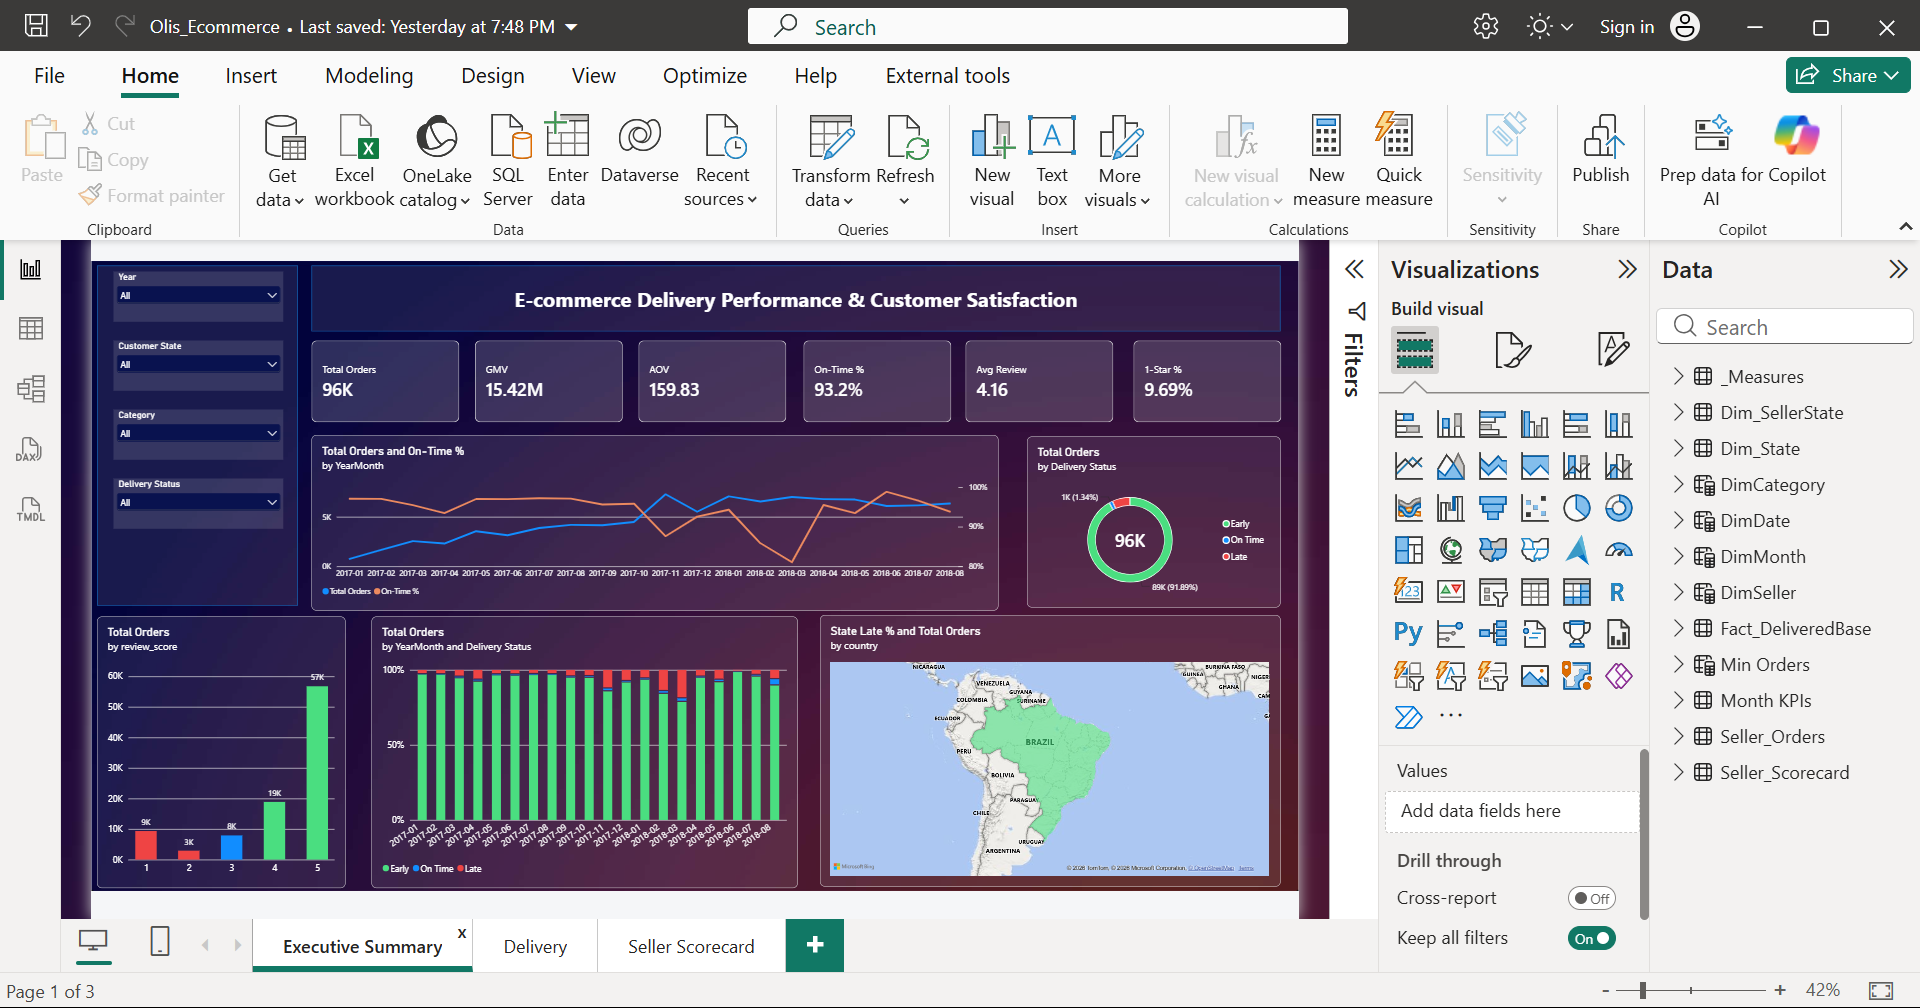

The dashboard page shown, as its layout file describes it:
{"tool":"powerbi","page":{"name":"Executive Summary","canvas":[1920,1080],"ordinal":0},"visuals":[{"type":"shape","box":[9.5,40.6,319.7,541.6],"z":0},{"type":"slicer","fields":{"Values":["DimDate.Year"]},"box":[35,50,270,80],"z":1000},{"type":"slicer","fields":{"Values":["Dim_State.state_name"]},"box":[35.8,160,270,80],"z":2000},{"type":"slicer","fields":{"Values":["DimCategory.category"]},"box":[35,270,270,80],"z":3000},{"type":"slicer","fields":{"Values":["Fact_DeliveredBase.Delivery Status"]},"box":[35,380,270,80],"z":4000},{"type":"cardVisual","fields":{"Data":["_Measures.GMV"]},"box":[610.8,159.9,235,130],"z":5000},{"type":"cardVisual","fields":{"Data":["Fact_DeliveredBase.Total Orders"]},"box":[350.7,159.9,235,130],"z":6000},{"type":"cardVisual","fields":{"Data":["_Measures.Avg Review"]},"box":[1391,159.9,235,130],"z":7000},{"type":"cardVisual","fields":{"Data":["_Measures.On-Time %"]},"box":[1133.3,159.9,235,130],"z":8000},{"type":"cardVisual","fields":{"Data":["_Measures.1-Star %"]},"box":[1658.2,159.9,235,130],"z":9000},{"type":"cardVisual","fields":{"Data":["_Measures.AOV"]},"box":[870.9,159.9,235,130],"z":10000},{"type":"lineChart","fields":{"Category":["DimDate.YearMonth"],"Y":["Fact_DeliveredBase.Total Orders"],"Y2":["_Measures.On-Time %"]},"box":[350.7,310.2,1092.7,279.2],"z":11000},{"type":"donutChart","fields":{"Category":["Fact_DeliveredBase.Delivery Status"],"Y":["Fact_DeliveredBase.Total Orders"]},"box":[1488.8,312.6,403.2,272],"z":12000},{"type":"clusteredColumnChart","fields":{"Category":["Fact_DeliveredBase.review_score"],"Y":["Fact_DeliveredBase.Total Orders"]},"box":[9.5,598.9,395,432],"z":13000},{"type":"hundredPercentStackedColumnChart","fields":{"Category":["DimDate.YearMonth"],"Series":["Fact_DeliveredBase.Delivery Status"],"Y":["Fact_DeliveredBase.Total Orders"]},"box":[446.2,598.9,678,432],"z":14000},{"type":"filledMap","fields":{"Category":["Dim_State.country","Dim_State.state_name"]},"box":[1159.6,596.5,732.5,431.9],"z":15000},{"type":"shape","box":[350.7,40.6,1541.3,105],"z":15001}]}

Visuals, with their boxes on the page's 1920x1080 design canvas (x1, y1, x2, y2). These are canvas units, not pixel positions in the 1920x1008 screenshot, which may show the page scaled, cropped or inside an application window:
shape: pyautogui.locateOnScreen(10, 41, 329, 582)
slicer - DimDate.Year: pyautogui.locateOnScreen(35, 50, 305, 130)
slicer - Dim_State.state_name: pyautogui.locateOnScreen(36, 160, 306, 240)
slicer - DimCategory.category: pyautogui.locateOnScreen(35, 270, 305, 350)
slicer - Fact_DeliveredBase.Delivery Status: pyautogui.locateOnScreen(35, 380, 305, 460)
cardVisual - _Measures.GMV: pyautogui.locateOnScreen(611, 160, 846, 290)
cardVisual - Fact_DeliveredBase.Total Orders: pyautogui.locateOnScreen(351, 160, 586, 290)
cardVisual - _Measures.Avg Review: pyautogui.locateOnScreen(1391, 160, 1626, 290)
cardVisual - _Measures.On-Time %: pyautogui.locateOnScreen(1133, 160, 1368, 290)
cardVisual - _Measures.1-Star %: pyautogui.locateOnScreen(1658, 160, 1893, 290)
cardVisual - _Measures.AOV: pyautogui.locateOnScreen(871, 160, 1106, 290)
lineChart - DimDate.YearMonth x Fact_DeliveredBase.Total Orders: pyautogui.locateOnScreen(351, 310, 1443, 589)
donutChart - Fact_DeliveredBase.Delivery Status x Fact_DeliveredBase.Total Orders: pyautogui.locateOnScreen(1489, 313, 1892, 585)
clusteredColumnChart - Fact_DeliveredBase.review_score x Fact_DeliveredBase.Total Orders: pyautogui.locateOnScreen(10, 599, 404, 1031)
hundredPercentStackedColumnChart - DimDate.YearMonth x Fact_DeliveredBase.Delivery Status: pyautogui.locateOnScreen(446, 599, 1124, 1031)
filledMap - Dim_State.country x Dim_State.state_name: pyautogui.locateOnScreen(1160, 596, 1892, 1028)
shape: pyautogui.locateOnScreen(351, 41, 1892, 146)
